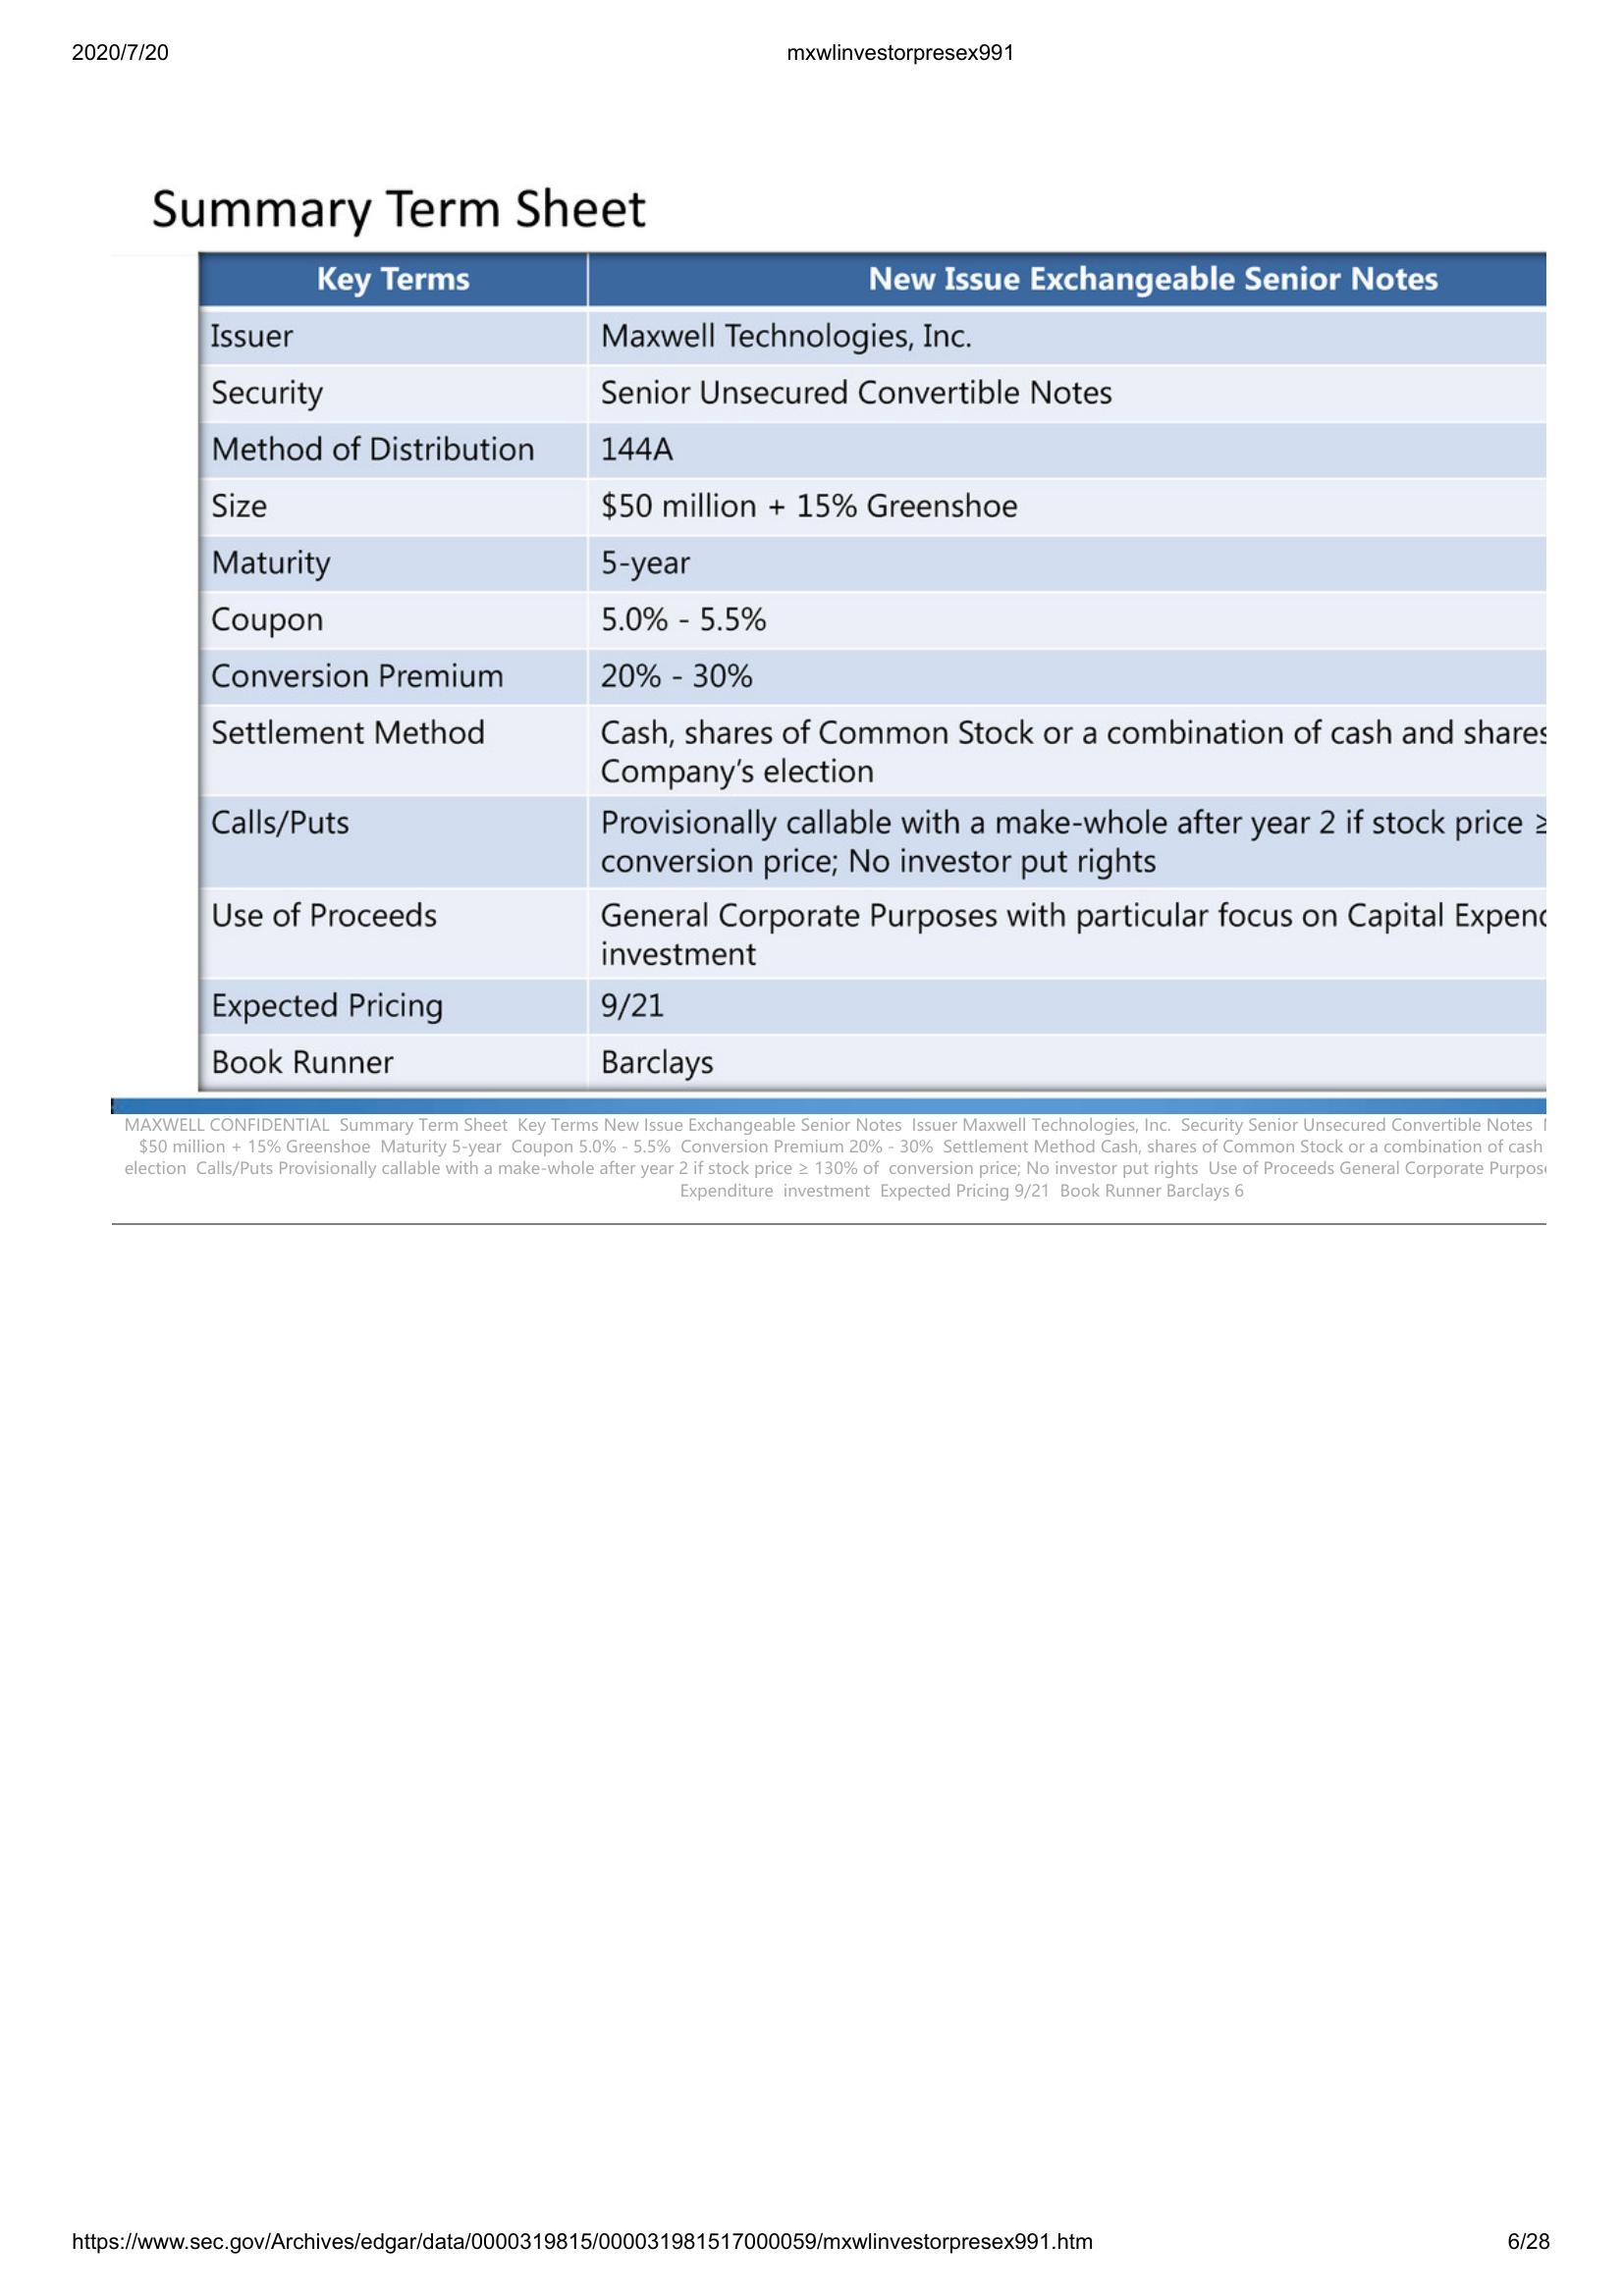table: (193, 244, 1553, 1099)
